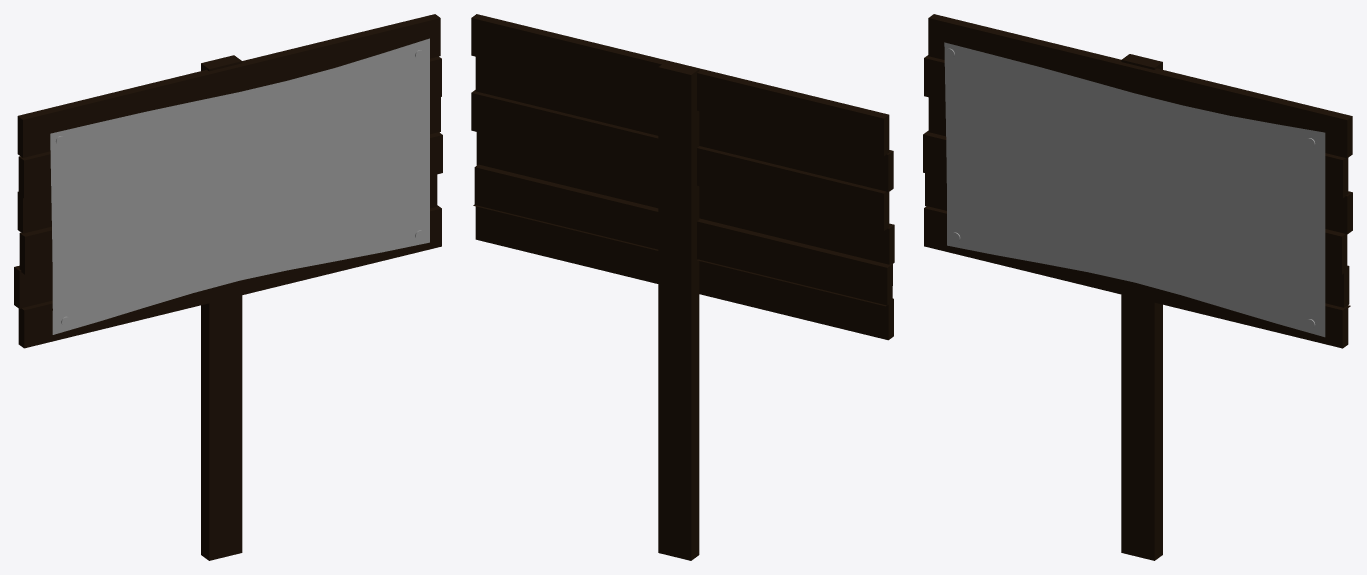
File: sign.obj
3 renders of one model, left to right at view 1: azimuth 30°, elevation 25°; view 2: azimuth 150°, elevation 25°; view 3: azimuth 330°, elevation 25°, orthographic.
Visible parts, largest first — view 1: Sign_Cube; view 2: Sign_Cube; view 3: Sign_Cube.
Part boxes in pixels (x1,y1,x2,y2): Sign_Cube: [14, 14, 442, 560]; Sign_Cube: [471, 14, 894, 560]; Sign_Cube: [923, 14, 1352, 560].
Size of the model in its own units: 1.86 by 2.07 by 0.1487.
